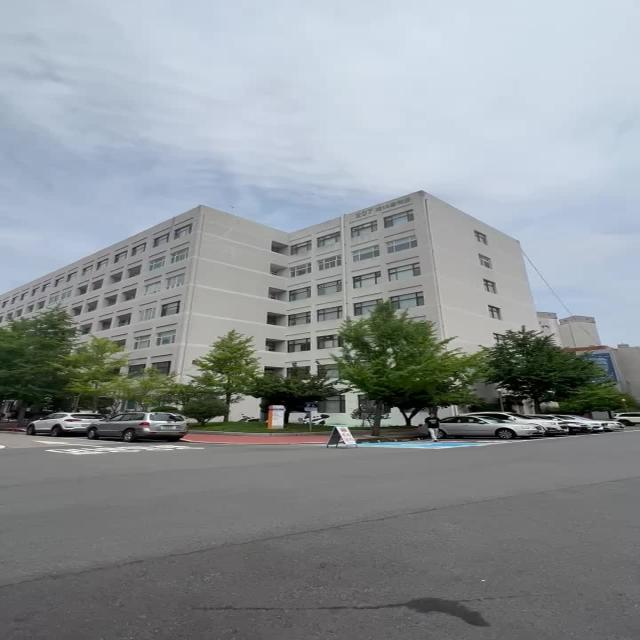building: (130, 185, 526, 329)
